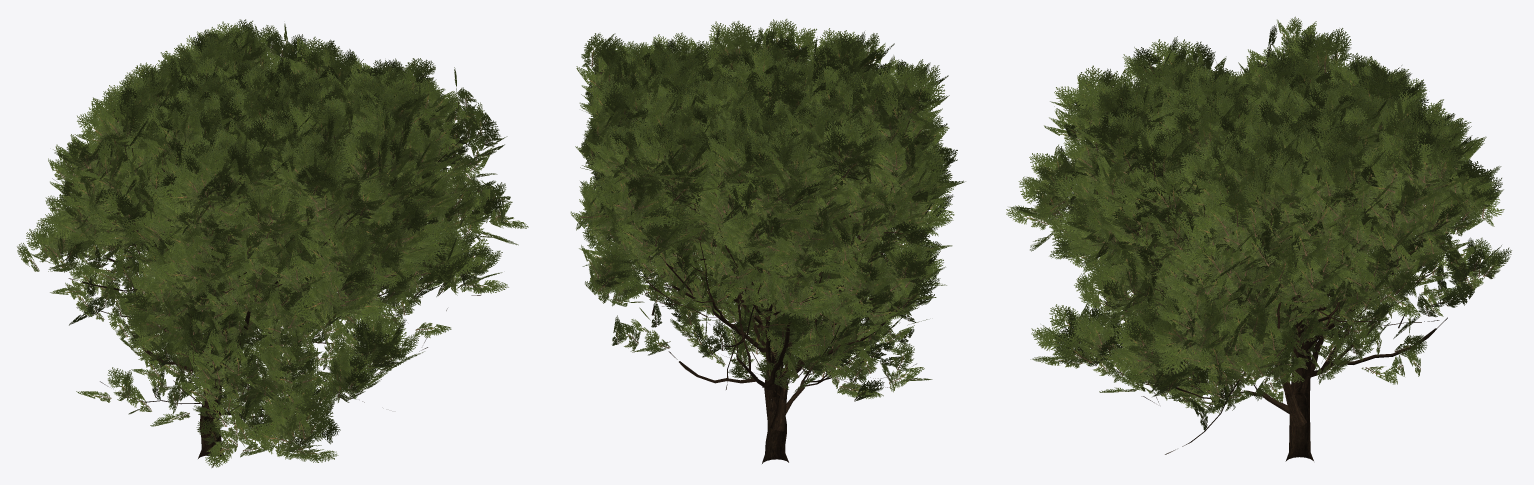
The model's file is Plant_E.glb.
3 views of the same model, side by side, from view 1: azimuth 30°, elevation 25°; view 2: azimuth 150°, elevation 25°; view 3: azimuth 270°, elevation 25° (orthographic). The views are drawn at different scales.
Visible parts, largest first — view 1: Leaf01_1_Leaf01_su_SHD_0, Leaf01_1_Leaf01_su_SHD_0.004, Leaf01_1_Leaf01_su_SHD_0.005, Plant_E; view 2: Leaf01_1_Leaf01_su_SHD_0, Leaf01_1_Leaf01_su_SHD_0.004, Leaf01_1_Leaf01_su_SHD_0.005, Plant_E; view 3: Leaf01_1_Leaf01_su_SHD_0, Leaf01_1_Leaf01_su_SHD_0.004, Plant_E, Leaf01_1_Leaf01_su_SHD_0.005.
Part boxes in pixels (box(x1,y1,x2,y2)): Leaf01_1_Leaf01_su_SHD_0: box(17, 19, 508, 402); Leaf01_1_Leaf01_su_SHD_0.004: box(76, 25, 528, 467); Leaf01_1_Leaf01_su_SHD_0.005: box(107, 169, 330, 414); Plant_E: box(49, 57, 480, 467); Leaf01_1_Leaf01_su_SHD_0: box(570, 19, 965, 380); Leaf01_1_Leaf01_su_SHD_0.004: box(579, 21, 934, 401); Leaf01_1_Leaf01_su_SHD_0.005: box(665, 175, 909, 392); Plant_E: box(622, 44, 925, 463); Leaf01_1_Leaf01_su_SHD_0: box(1006, 16, 1504, 430); Leaf01_1_Leaf01_su_SHD_0.004: box(1030, 58, 1511, 416); Plant_E: box(1049, 46, 1448, 461); Leaf01_1_Leaf01_su_SHD_0.005: box(1086, 172, 1390, 384).
Bounding box in the file's own units: 0.4952 × 0.4059 × 0.4821.
Materials: 2 (2 with a texture image).
